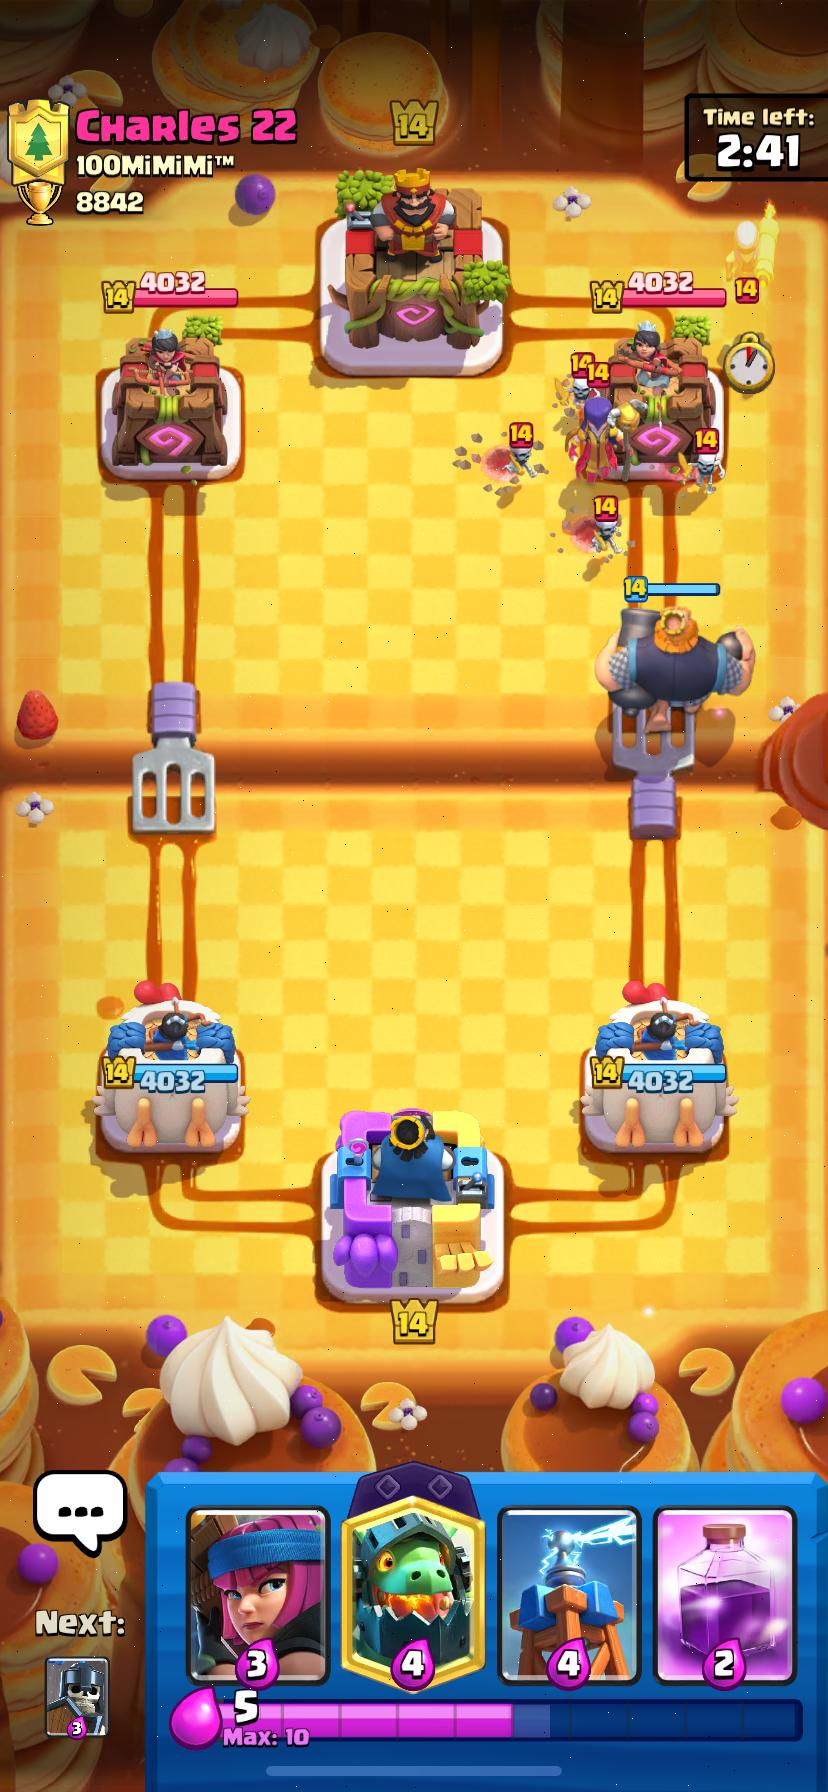EFirecrack: (727, 202, 778, 283)
EKingTower: (345, 170, 487, 350)
ELarry: (505, 421, 547, 481), (686, 430, 723, 493), (555, 351, 596, 406), (591, 494, 624, 557)
EWitch: (567, 394, 622, 482)
EnemyPrincessTower: (605, 326, 722, 481), (112, 329, 226, 474)
ORoyalG: (596, 603, 755, 714)
OwnKingTower: (331, 1109, 493, 1301)
OwnPrincessTower: (93, 986, 248, 1151), (581, 997, 734, 1147)
